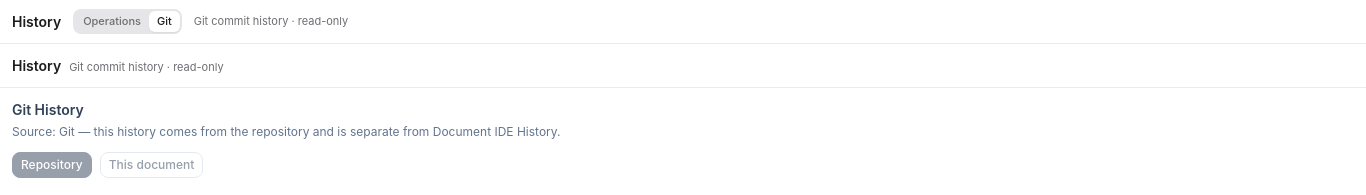
Test: HistoryScreen (UI-03 screen 10) › turns a rejected load into the same typed unavailable state
Click the radio button labelled "Operations" at [112, 22], box [75, 11, 149, 32]
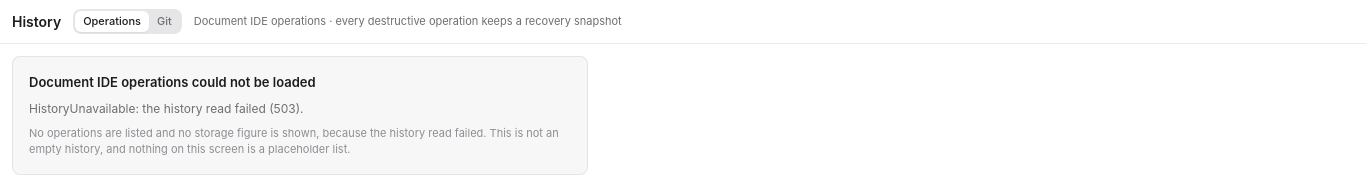
Expected: the message with test id "history-operations-unavailable" does not show "No operations recorded yet", [12, 56, 588, 174]
Now the text with test id "history-operations-unavailable-reason" reads "HistoryUnavailable: the history read failed (503).", box [29, 100, 304, 116]
Now the list "Operation history" is gone
